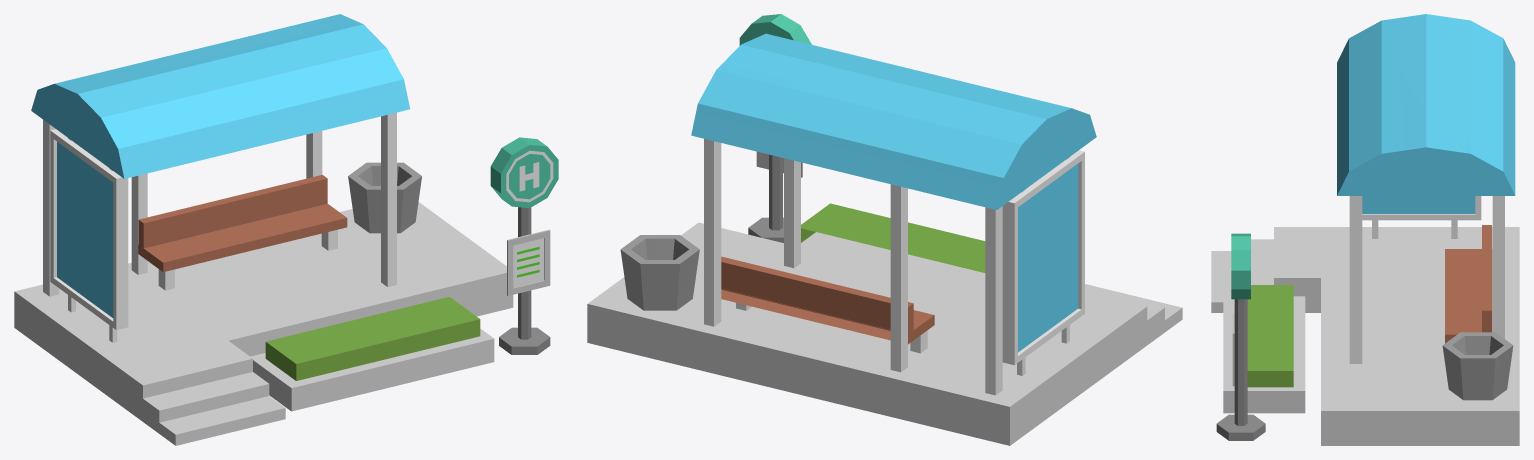
The model's file is chezhan02.FBX.
3 views of the same model, side by side, from view 1: azimuth 30°, elevation 25°; view 2: azimuth 150°, elevation 25°; view 3: azimuth 270°, elevation 25° (orthographic). The views are drawn at different scales.
Visible parts, largest first — view 1: Floor007; view 2: Floor007; view 3: Floor007.
Part boxes in pixels (x1,y1,x2,y2): Floor007: [14, 14, 558, 445]; Floor007: [587, 14, 1182, 445]; Floor007: [1211, 14, 1519, 445].
Size of the model in its own units: 1424 by 917 by 1007.
